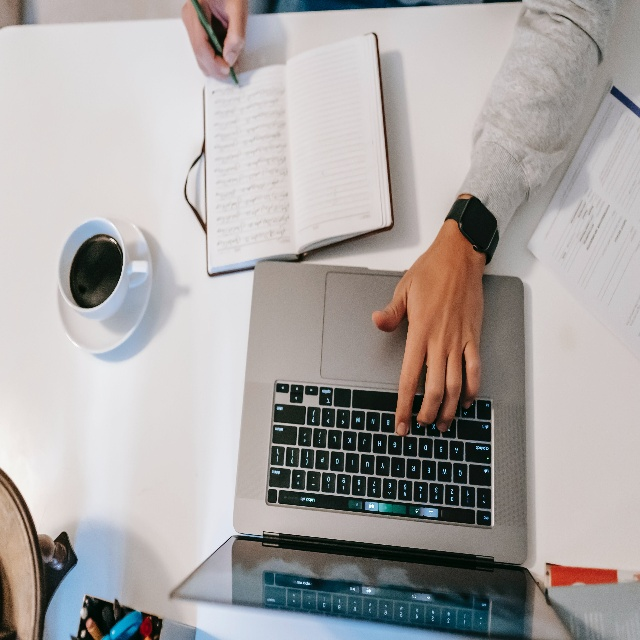Sin_guantes: (372, 237, 484, 437), (182, 0, 247, 79)
